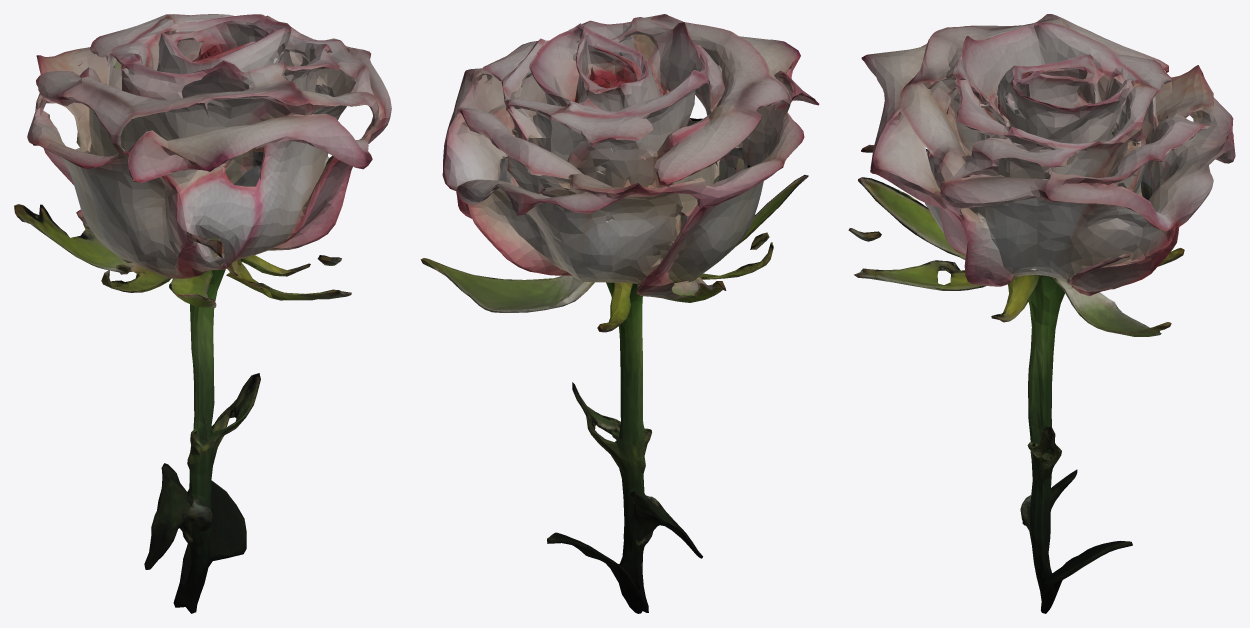
The picture shows the model from 3 angles, left to right: view 1: azimuth 30°, elevation 25°; view 2: azimuth 150°, elevation 25°; view 3: azimuth 270°, elevation 25°; orthographic projection. The views are drawn at different scales.
Visible parts, largest first — view 1: world; view 2: world; view 3: world.
Part boxes in pixels (bbox=[...]): world: bbox=[14, 14, 391, 613]; world: bbox=[420, 14, 819, 613]; world: bbox=[848, 14, 1235, 613].
Bounding box in the file's own units: 0.5899 × 0.9836 × 0.6017.
Materials: 1 (1 with a texture image).
